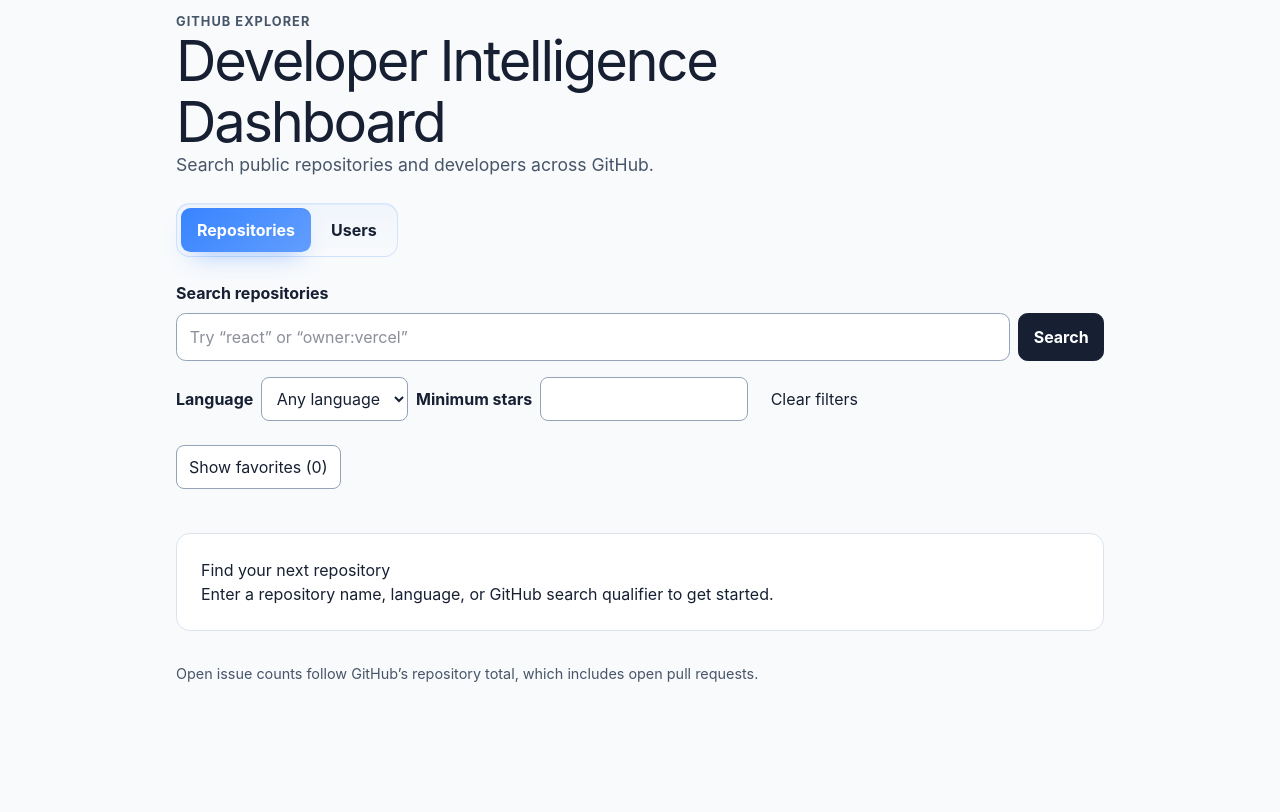
Test case: repository search page › keeps the latest search visible when an earlier request resolves afterward
This screenshot has width=1280, height=812.
Type "alpha" into the search field labelled "Search repositories". click: (593, 336)
box: [176,312,1010,360]
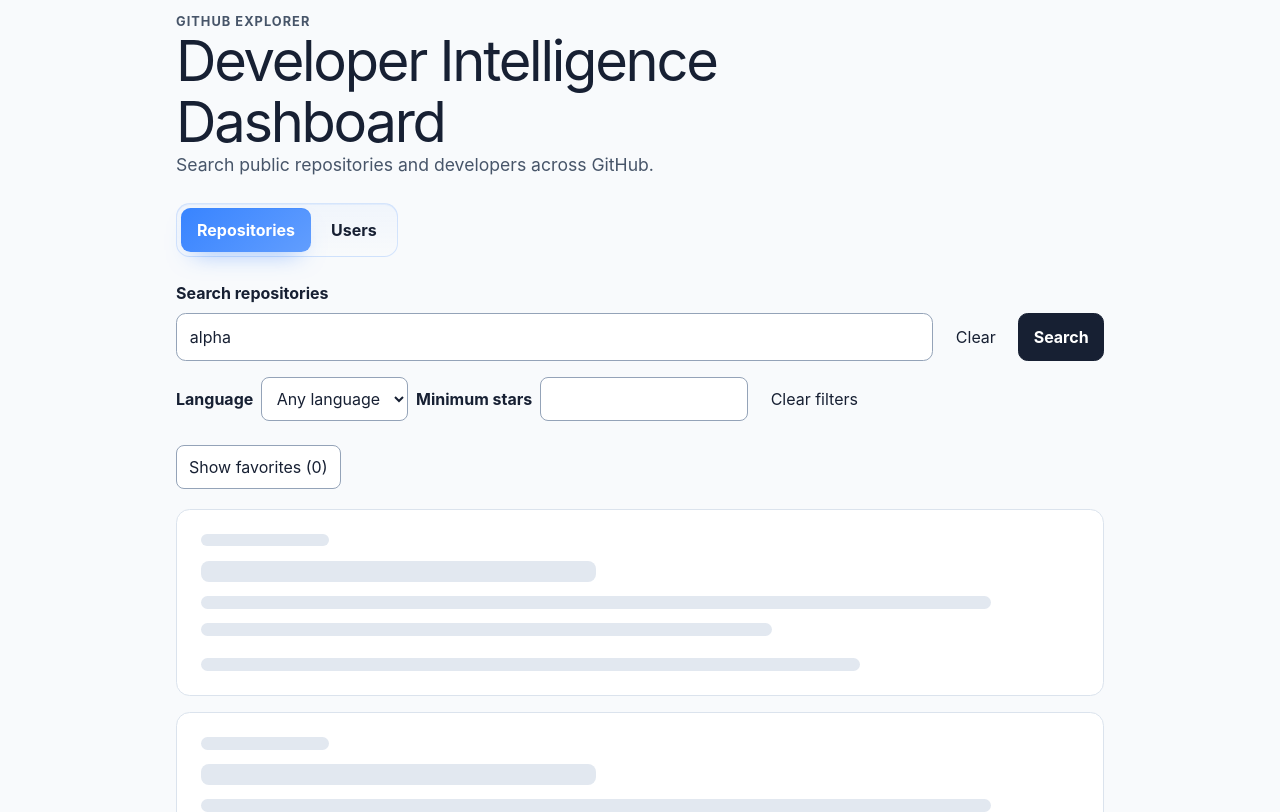
Replace the text in the search field labelled "Search repositories" with "beta". click: (555, 336)
box: [176,312,933,360]
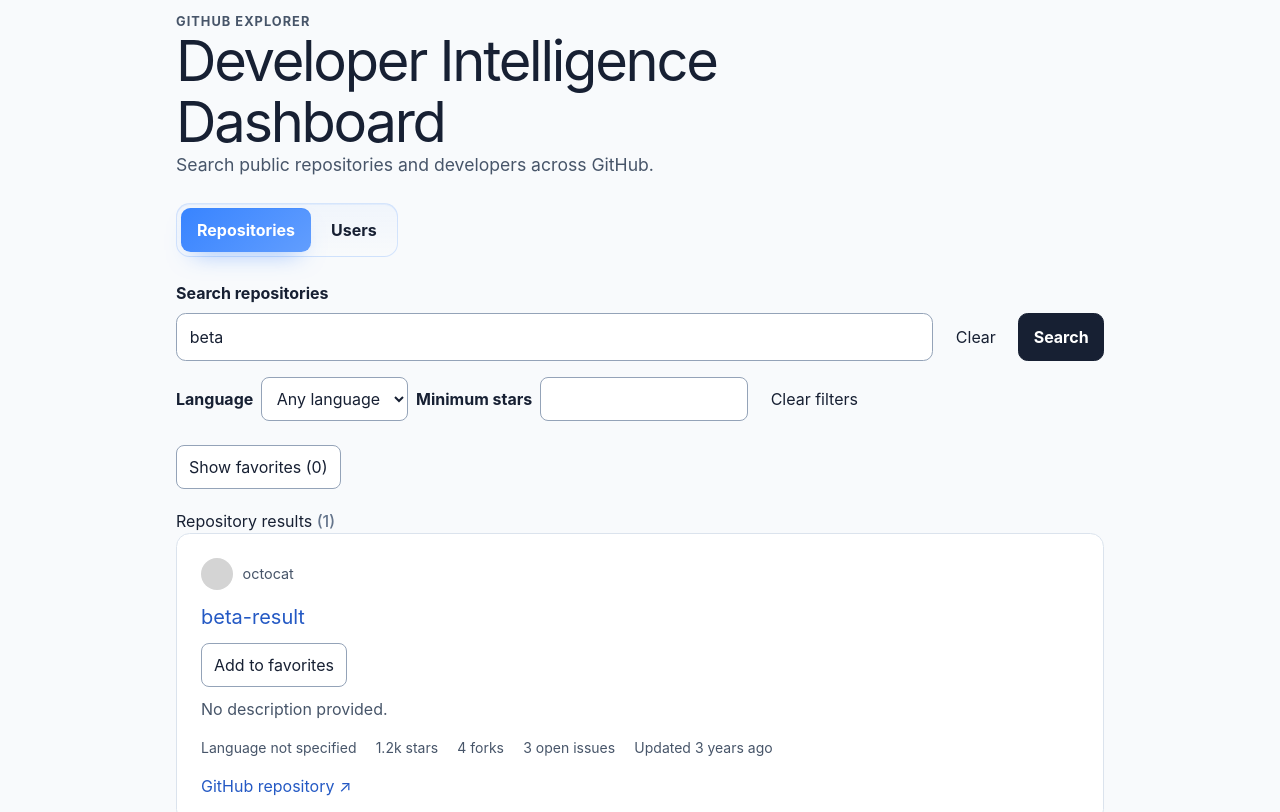
expect the link "beta-result" is shown: met, box [201,605,305,629]
